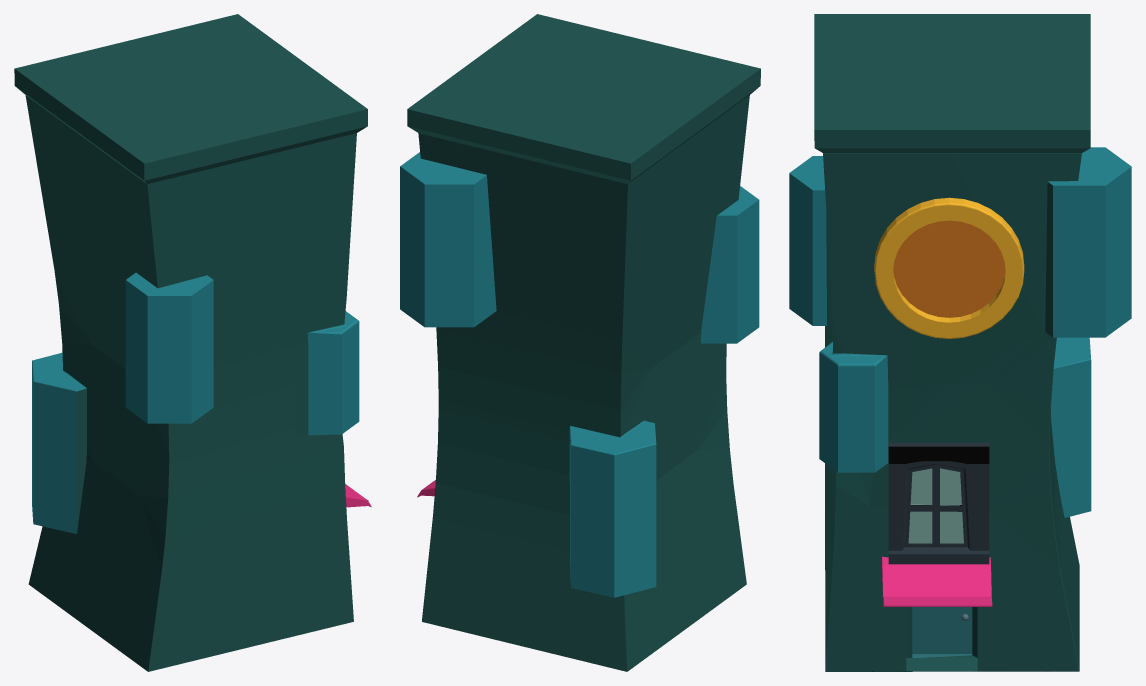
The model's file is GreenBuilding.fbx.
The picture shows the model from 3 angles, left to right: view 1: azimuth 30°, elevation 25°; view 2: azimuth 150°, elevation 25°; view 3: azimuth 270°, elevation 25°; orthographic projection. The views are drawn at different scales.
Parts seen in each view (by area): view 1: Aween.002; view 2: Aween.002; view 3: Aween.002.
Part boxes in pixels (box(x1,y1,x2,y2)): Aween.002: box(14, 14, 371, 671); Aween.002: box(400, 14, 760, 671); Aween.002: box(789, 14, 1131, 671).
Size of the model in its own units: 736 by 1375 by 781.
